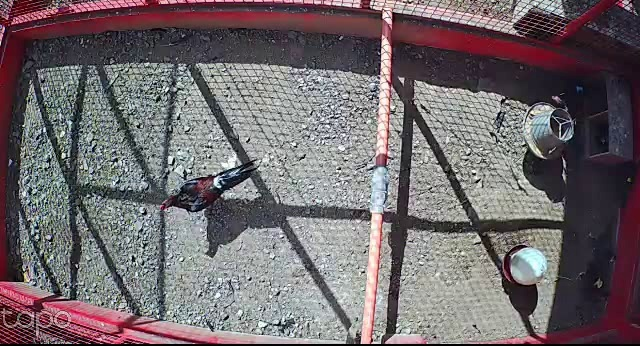Drinker: (501, 244, 551, 286)
Feeder: (522, 101, 573, 160)
Rooster: (157, 158, 259, 214)
